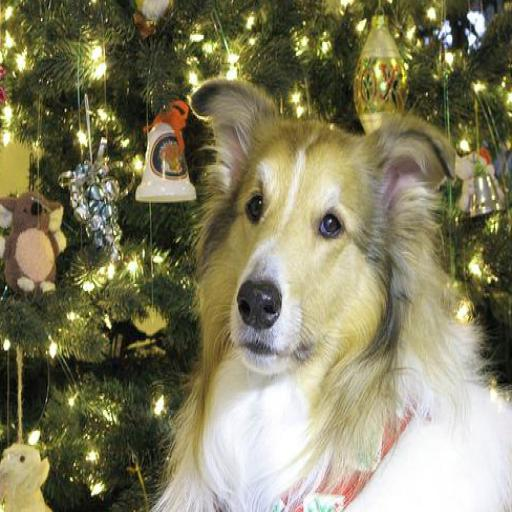dog_face: (185, 76, 464, 381)
